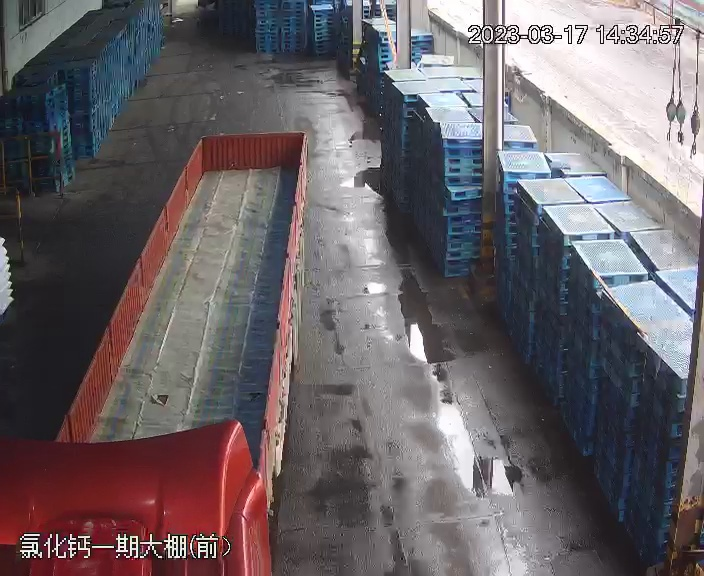truck: (9, 120, 322, 576)
